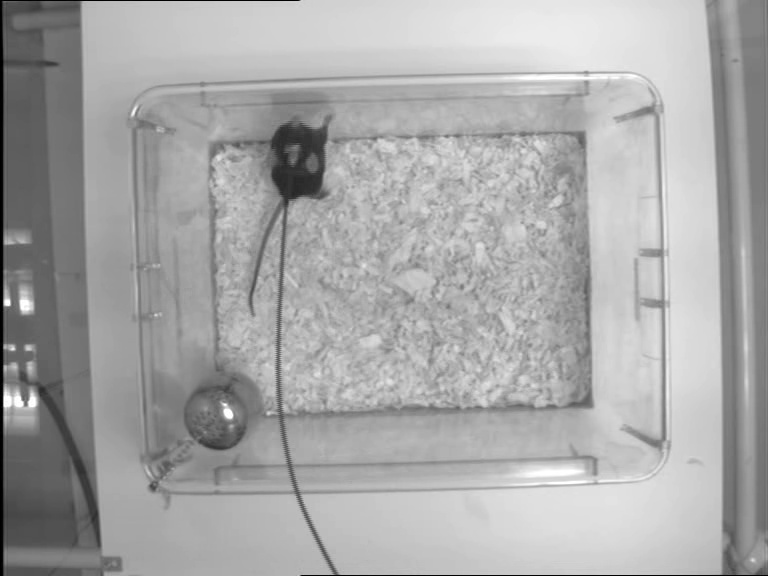mice: (247, 108, 339, 319)
